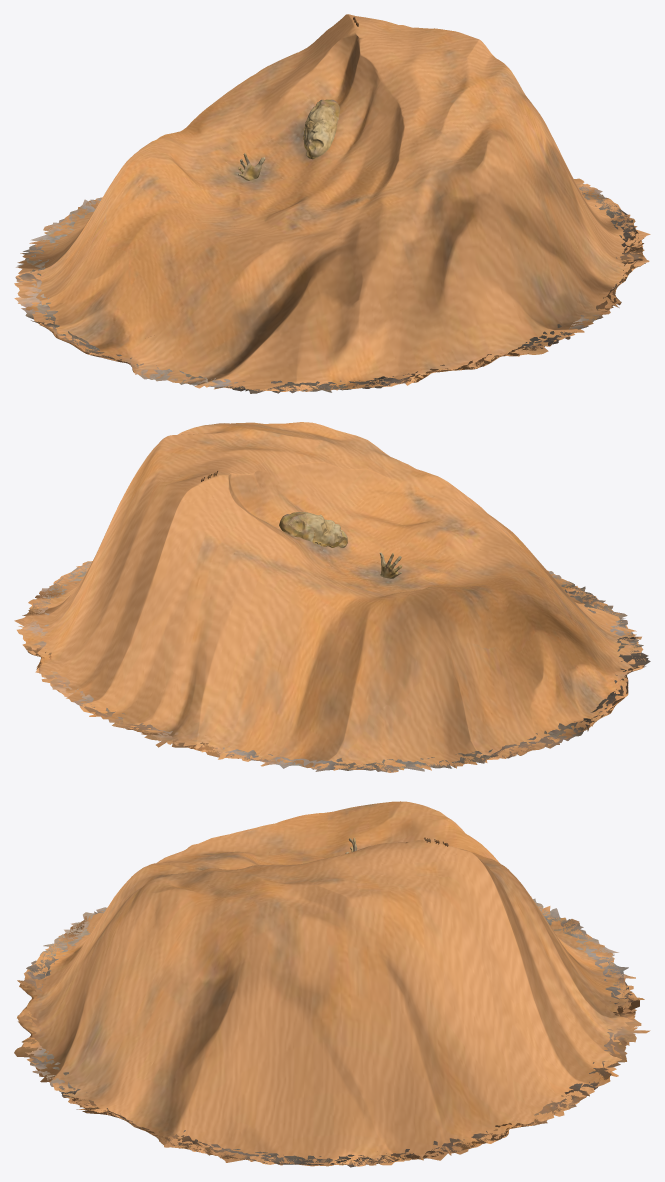
File: 04_sculptjanuary18_-_desert.glb
3 views of the same model, one above another, from view 1: azimuth 30°, elevation 25°; view 2: azimuth 150°, elevation 25°; view 3: azimuth 270°, elevation 25° (orthographic). The views are drawn at different scales.
Visible parts, largest first — view 1: g (×2); view 2: g (×2); view 3: g.
Boxes of the visible parts, box(x1,y1,x2,y2) form: g (×2): box(14, 14, 650, 393); g (×2): box(14, 422, 650, 772); g: box(14, 801, 650, 1167).
Bounding box in the file's own units: 1.78 × 0.591 × 1.58.
Materials: 1 (1 with a texture image).
